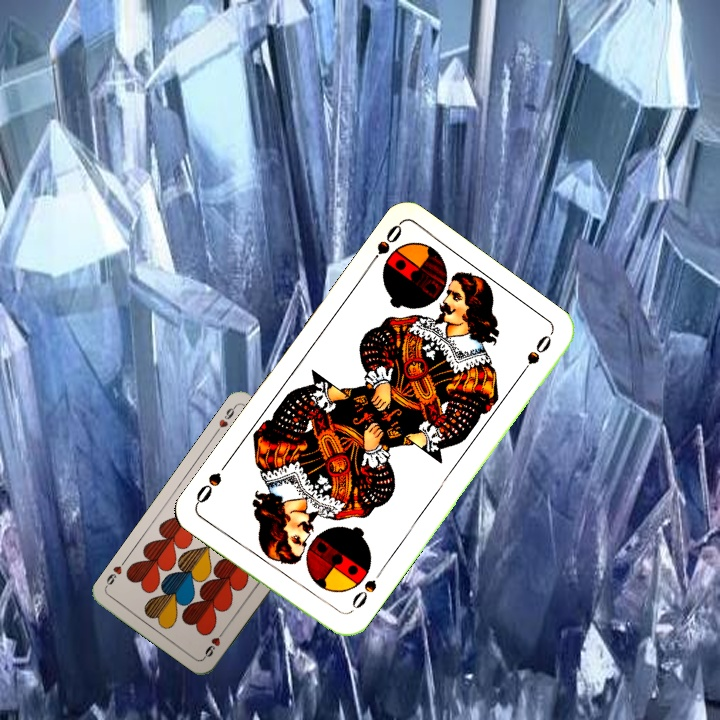H9: (200, 625, 228, 661), (211, 401, 239, 437)
SO: (362, 220, 405, 272), (347, 575, 380, 612)
